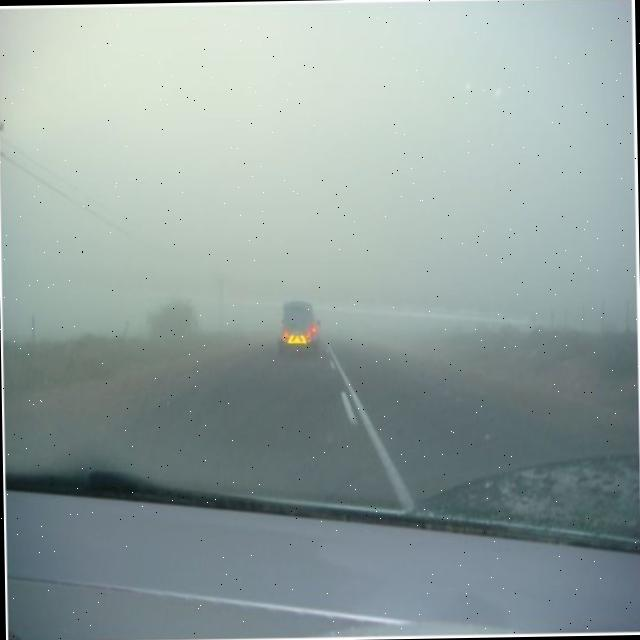car: (274, 296, 322, 356)
